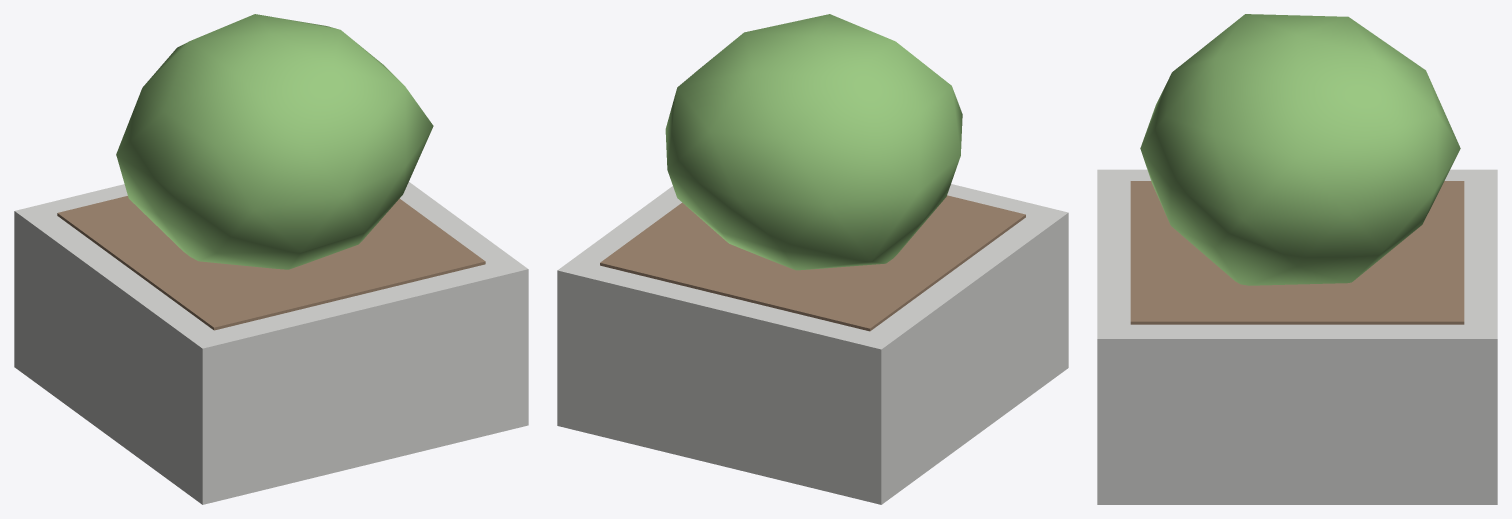
The model's file is planter.glb.
3 renders of one model, left to right at view 1: azimuth 30°, elevation 25°; view 2: azimuth 150°, elevation 25°; view 3: azimuth 270°, elevation 25°, orthographic. The views are drawn at different scales.
Parts seen in each view (by area): view 1: planter; view 2: planter; view 3: planter.
Boxes of the visible parts, left/top/right/bottom form: planter: left=14, top=14, right=528, bottom=504; planter: left=557, top=14, right=1068, bottom=504; planter: left=1097, top=14, right=1497, bottom=504.
Bounding box in the file's own units: 1.2 × 1.27 × 1.2.
